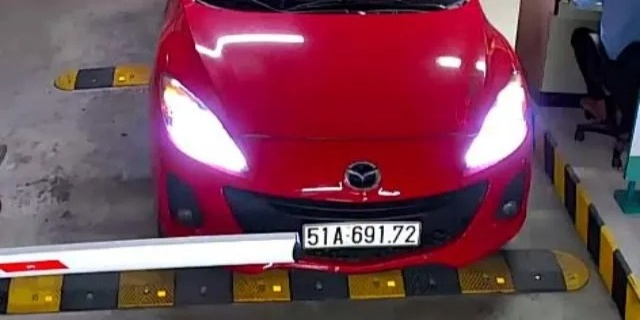bien_so: (303, 223, 419, 247)
